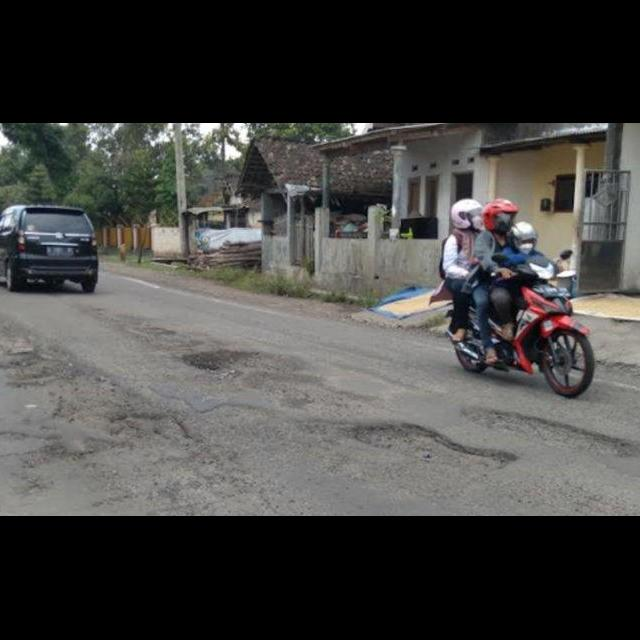lubang_kecil: (339, 417, 534, 494), (459, 401, 640, 468), (83, 397, 196, 451), (168, 334, 269, 389)
